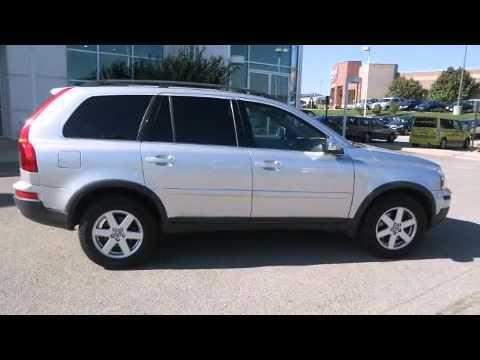Car: (6, 75, 468, 280)
